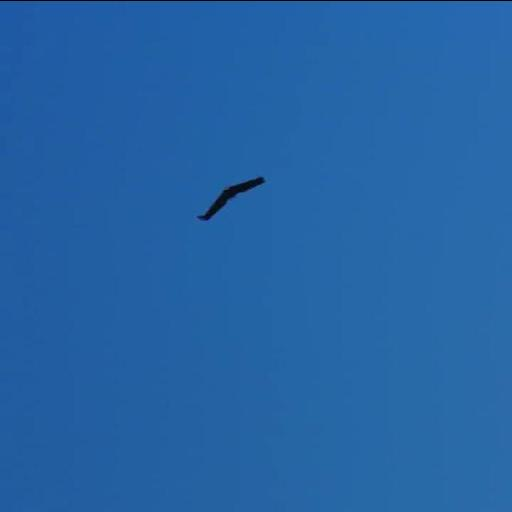uav: (194, 175, 272, 222)
